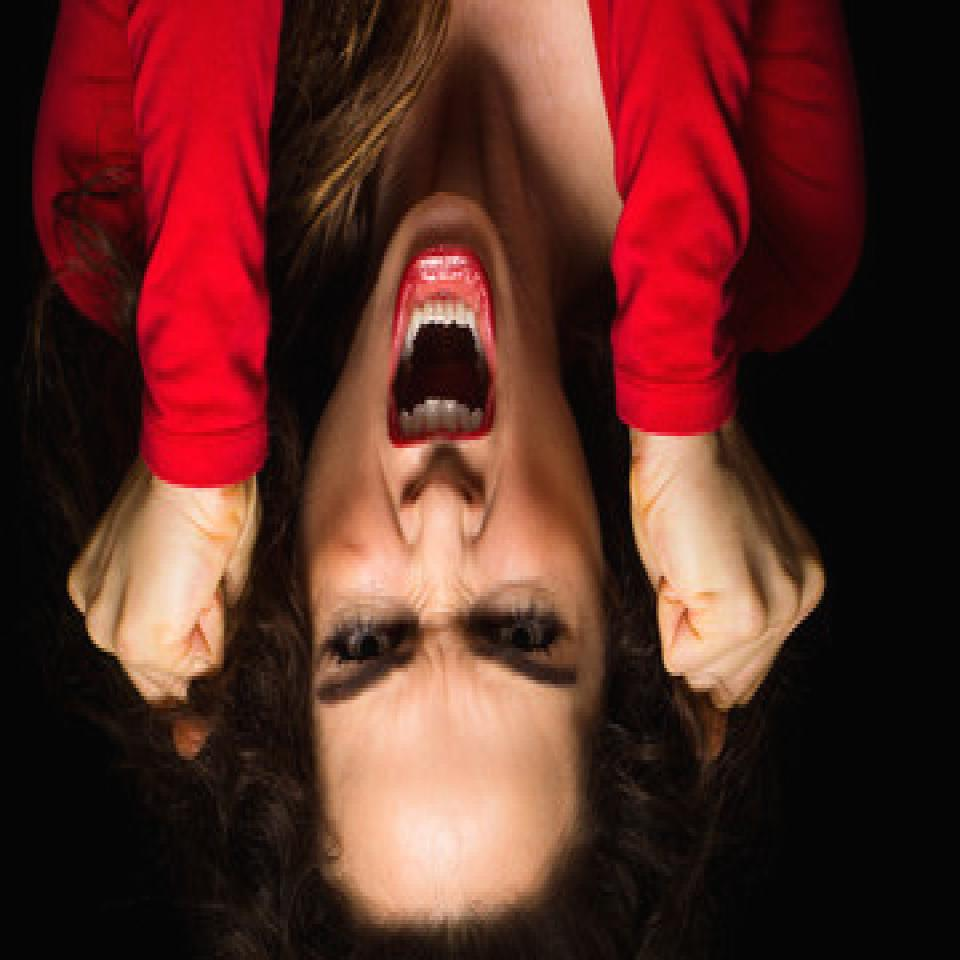Anger: (314, 194, 608, 867)
